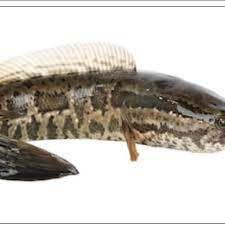Snakehead: (2, 44, 225, 193)
